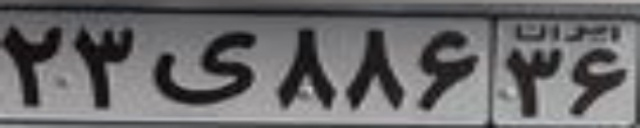2: (4, 23, 66, 107)
3: (74, 26, 138, 108), (504, 48, 562, 118)
6: (416, 30, 476, 110), (572, 46, 628, 114)
8: (274, 28, 334, 109), (347, 29, 407, 110)
ye: (148, 30, 265, 104)
